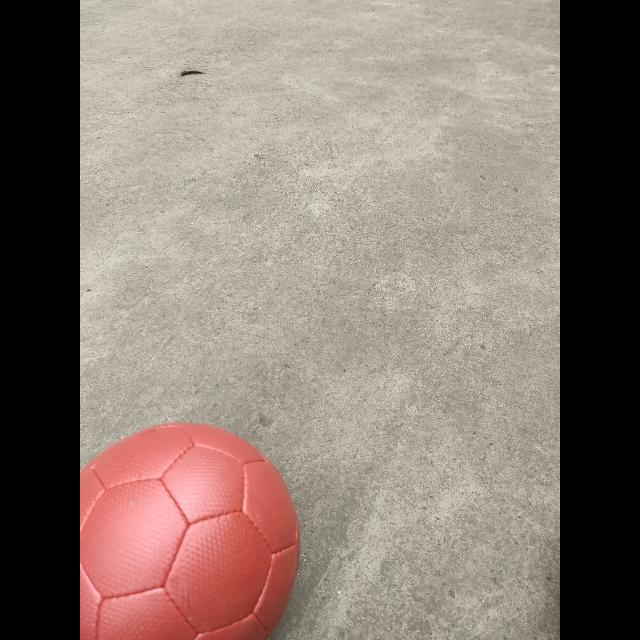R: (80, 423, 300, 639)
